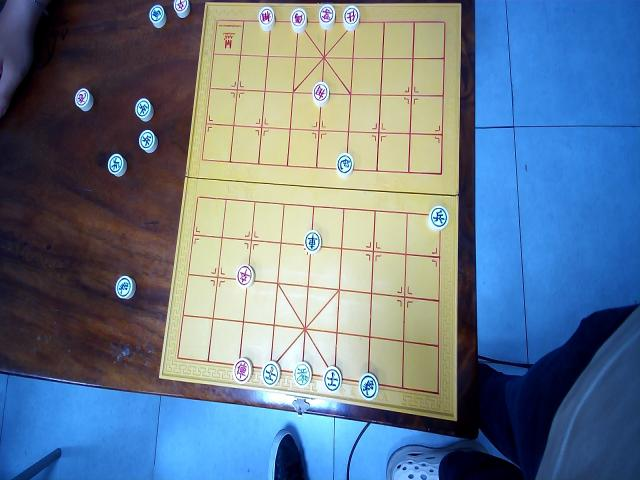piece: (427, 204, 449, 231), (359, 372, 379, 401), (322, 365, 342, 393), (232, 357, 252, 384), (293, 361, 312, 388), (115, 275, 135, 300), (74, 87, 94, 112), (107, 152, 127, 177), (262, 360, 280, 387), (138, 128, 157, 153), (336, 152, 354, 178), (257, 6, 275, 32), (318, 3, 335, 30), (135, 97, 153, 122), (236, 264, 254, 289), (148, 4, 166, 29), (304, 229, 322, 254), (312, 80, 329, 106), (290, 7, 307, 33), (342, 5, 359, 30), (173, 0, 191, 19)
